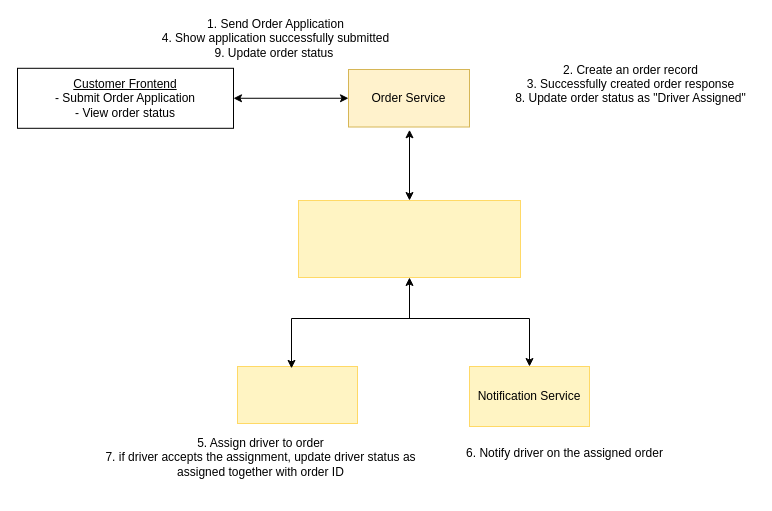
Some shapes in this 772 by 511 pixel diagram are drawn without their labels. Each missing label, with the box of its shape:
Driver Service: (236, 366, 358, 424)
Temporal: (298, 200, 520, 278)
